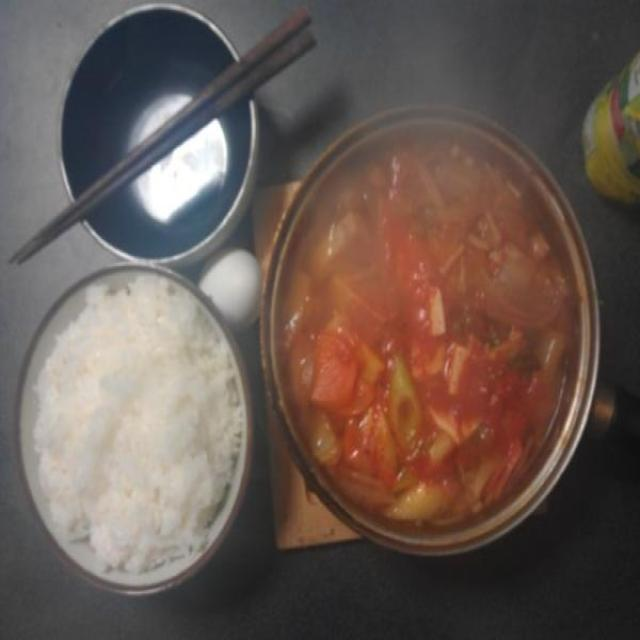Rice: (32, 277, 237, 560)
